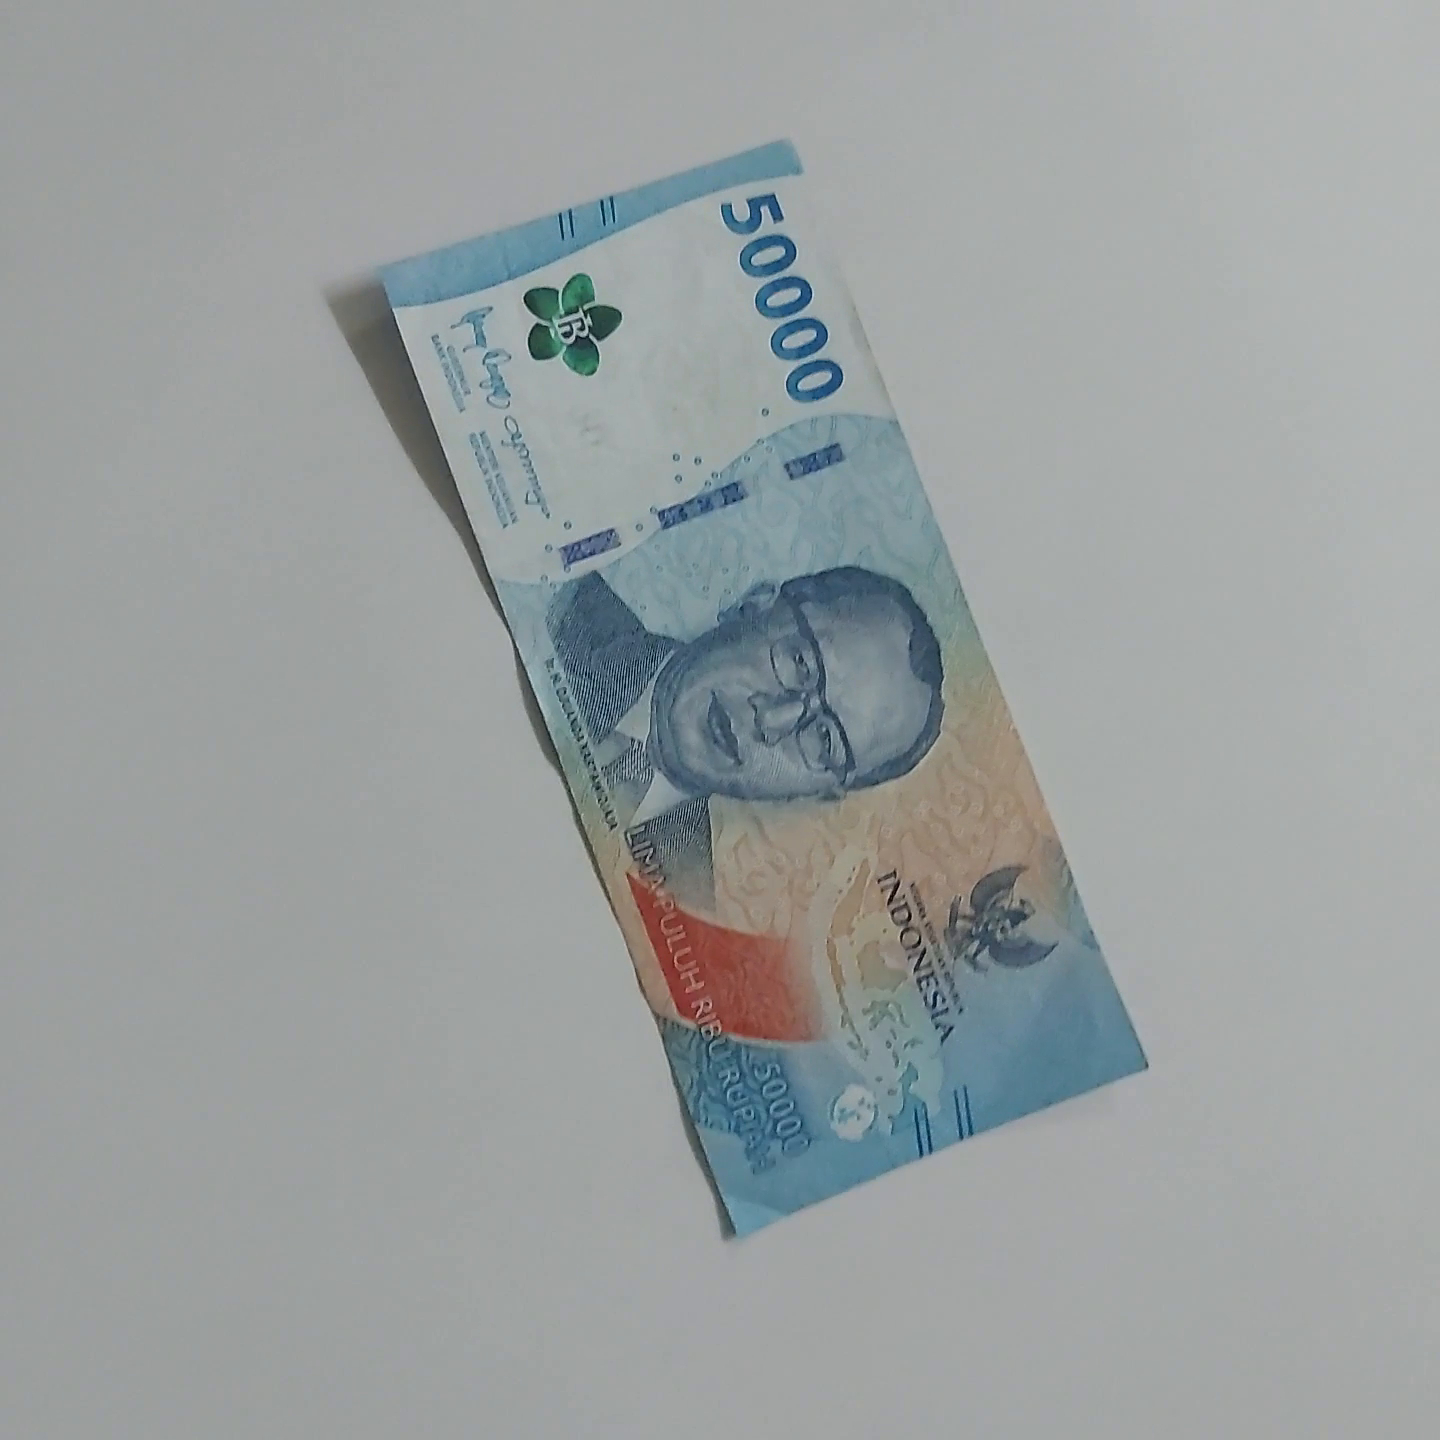50k: (328, 247, 861, 1317)
